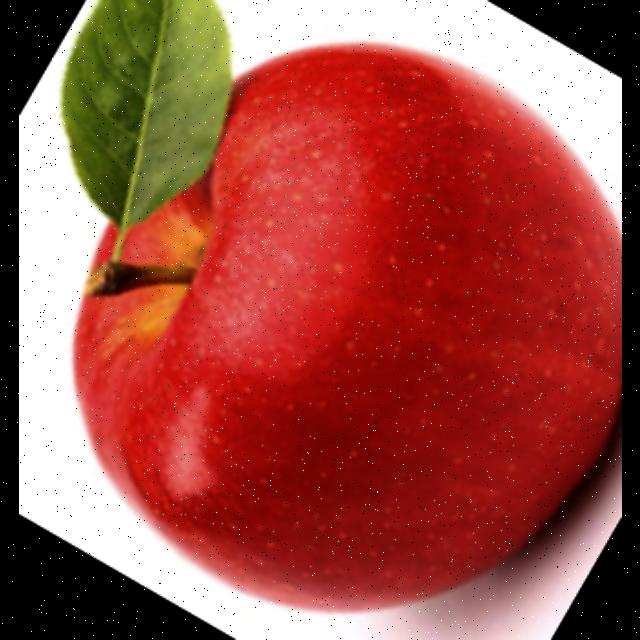Apel Segar: (54, 29, 622, 629)
